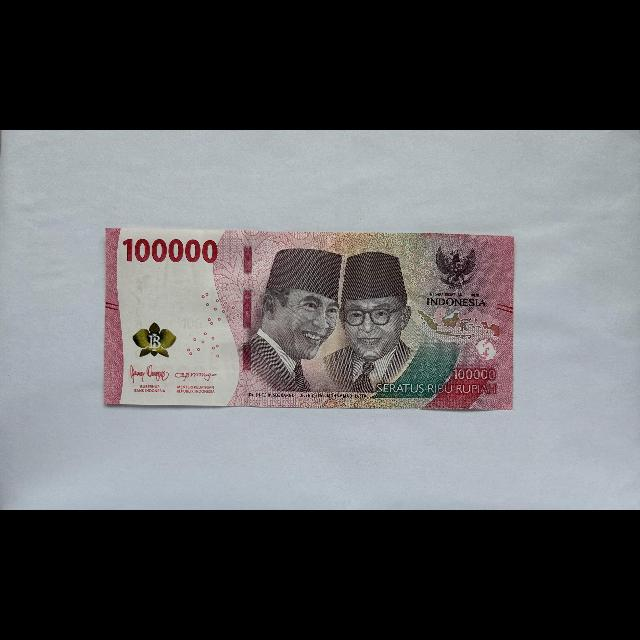Asli-100k: (104, 226, 517, 414)
Tinta-Asli-100k: (133, 321, 178, 359)
